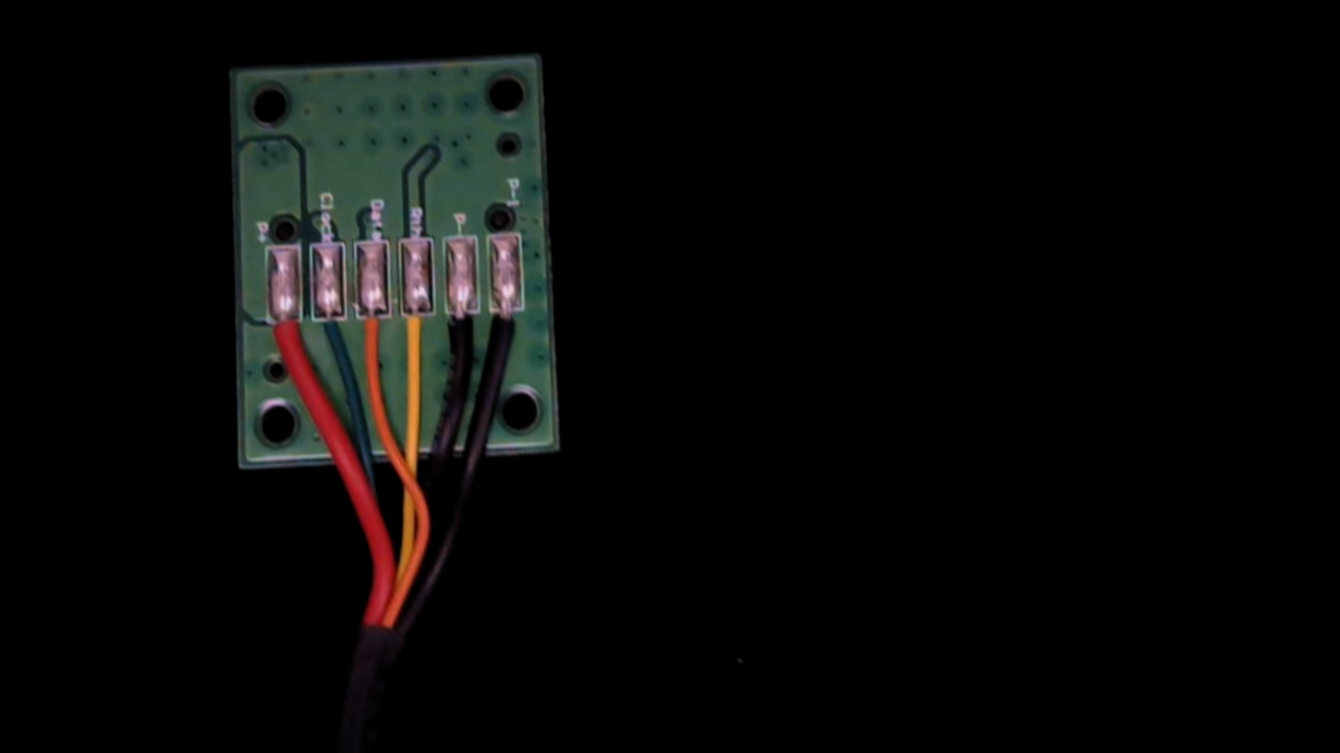Black: (445, 295, 478, 378)
Black1: (489, 290, 527, 372)
Green: (309, 299, 346, 367)
Orange: (353, 295, 390, 367)
Red: (266, 301, 303, 373)
Yellow: (399, 293, 431, 371)
